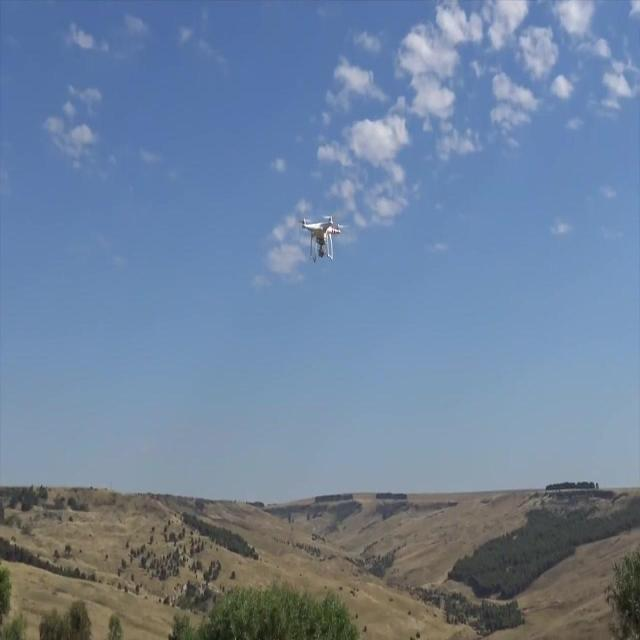drone: (300, 212, 342, 262)
